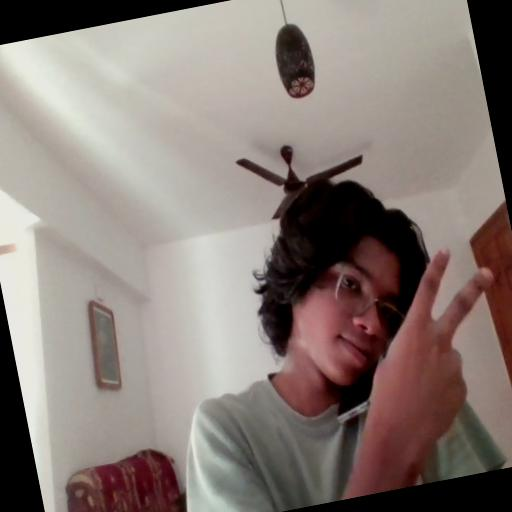scissor: (349, 238, 512, 456)
